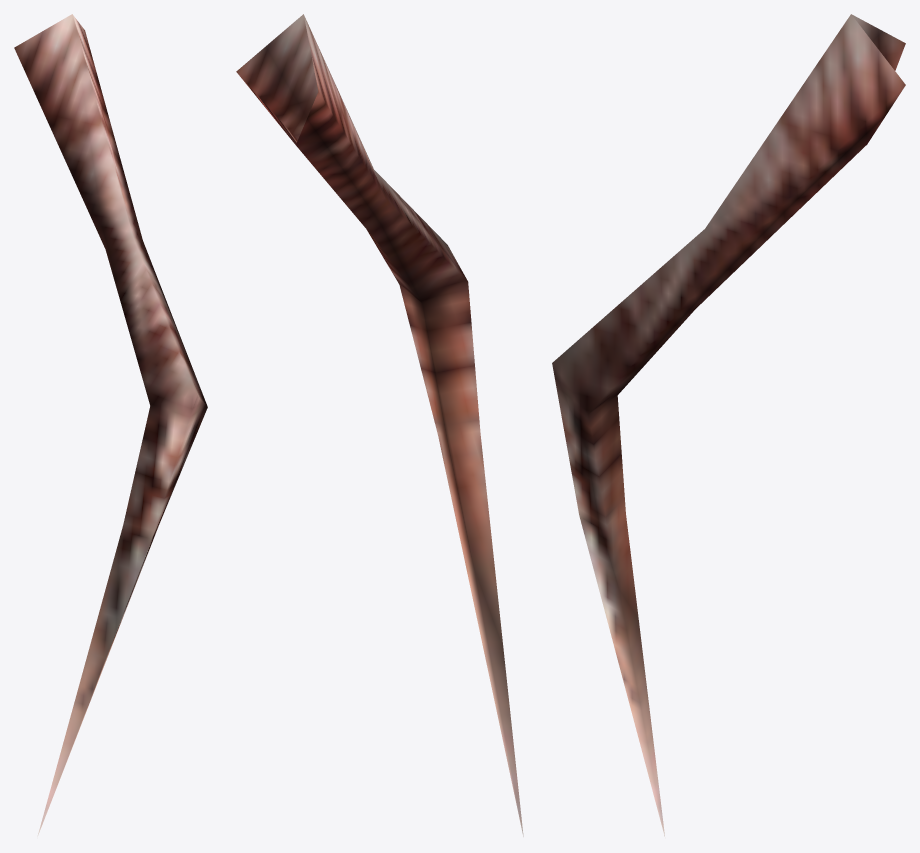
The model's file is xen_arbol_brazo.obj.
3 views of the same model, side by side, from view 1: azimuth 30°, elevation 25°; view 2: azimuth 150°, elevation 25°; view 3: azimuth 270°, elevation 25° (orthographic). The views are drawn at different scales.
Bounding box in the file's own units: 0.714 × 3.41 × 1.23.
